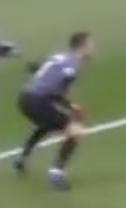goalkeeper: (5, 23, 103, 200)
